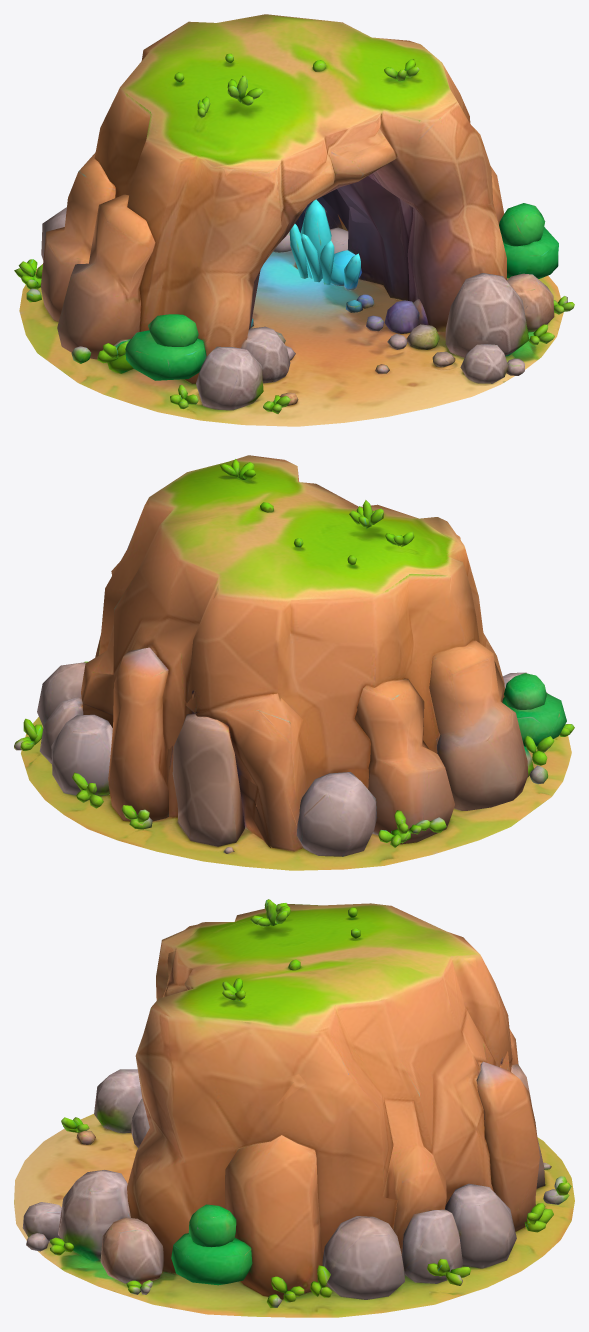
Rendered from r1c3_blue_crystal_cave.glb.
3 views of the same model, one above another, from view 1: azimuth 30°, elevation 25°; view 2: azimuth 150°, elevation 25°; view 3: azimuth 270°, elevation 25° (orthographic). The views are drawn at different scales.
Size of the model in its own units: 1 by 0.5352 by 1.
Materials: 1 (1 with a texture image).
